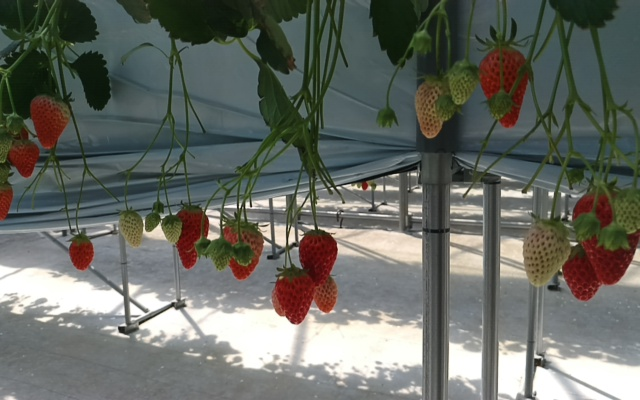GreenStrawberry: (520, 216, 573, 288), (412, 73, 453, 140), (448, 57, 480, 107), (611, 183, 640, 238), (117, 209, 144, 249), (208, 238, 236, 272), (486, 92, 512, 122), (435, 90, 459, 120), (161, 214, 183, 246), (232, 242, 255, 267), (1, 126, 13, 167), (144, 211, 161, 233)
MatureStrawberry: (572, 180, 640, 288), (477, 37, 530, 130), (557, 242, 607, 303), (29, 90, 73, 152), (221, 221, 265, 282), (173, 204, 210, 271), (274, 266, 315, 326), (298, 229, 338, 287), (7, 138, 40, 180), (310, 273, 339, 314), (68, 233, 95, 273), (1, 174, 16, 228)
